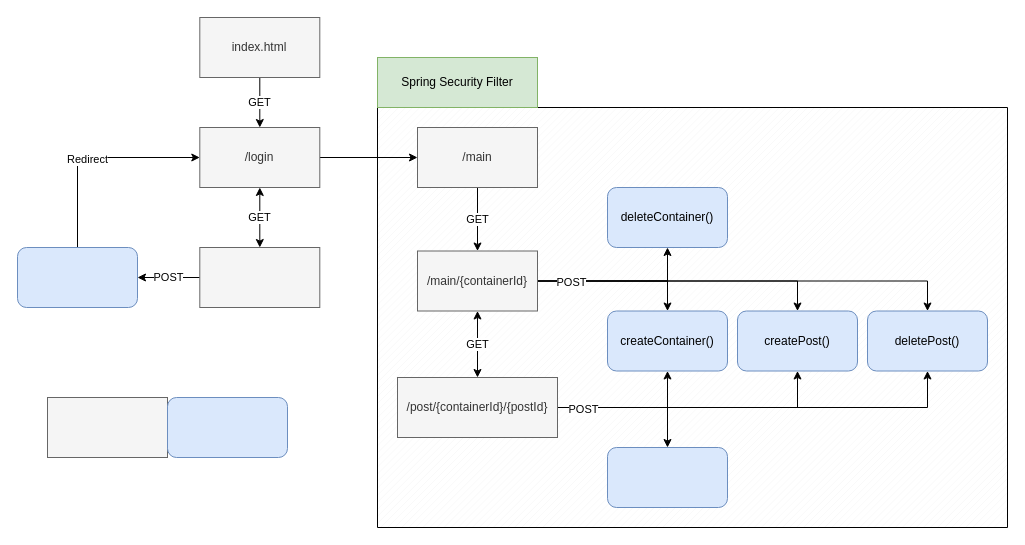
This 1025x545 diagram has some shape labels left out. The shapes that lost their labels are listed below. From the top down, each one's centre as x and y in pixels, then its label:
At pixel 77 277: "register()".
At pixel 259 277: "/login/register".
At pixel 107 427: "View".
At pixel 227 427: "Controller".
At pixel 667 477: "UpdatePost()".
